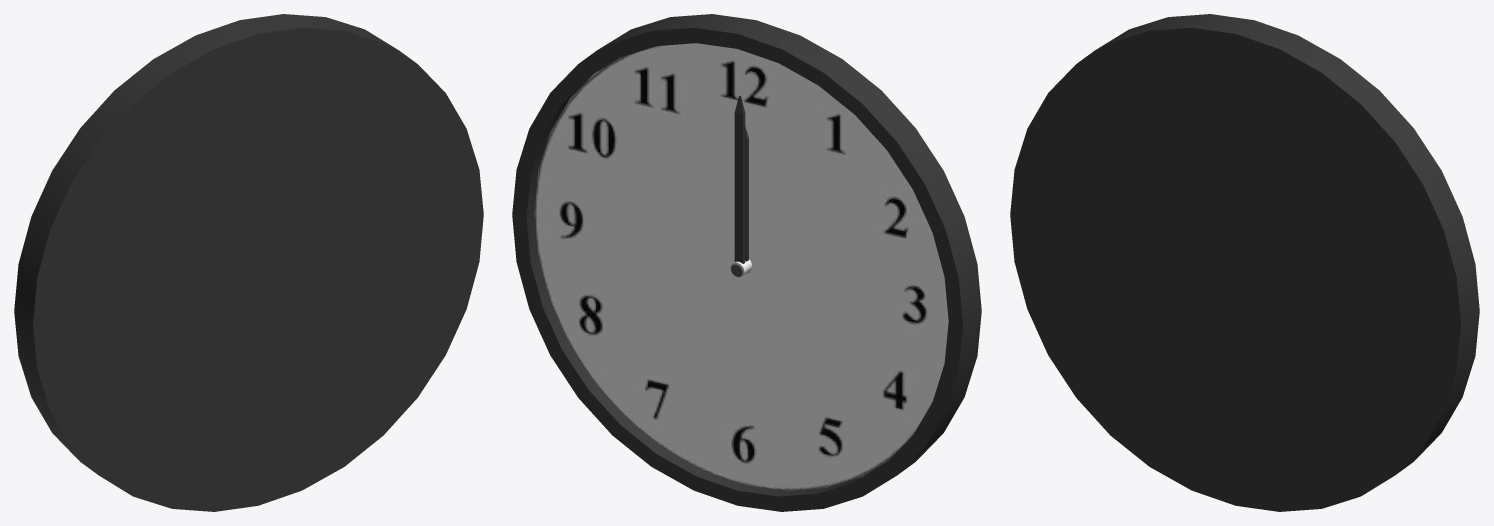
File: JamPutar.fbx
3 views of the same model, side by side, from view 1: azimuth 30°, elevation 25°; view 2: azimuth 150°, elevation 25°; view 3: azimuth 330°, elevation 25° (orthographic).
Visible parts, largest first — view 1: Jam; view 2: Jam, jarumBesar; view 3: Jam.
Boxes of the visible parts, x1=… form: Jam: x1=14, y1=14, x2=483, y2=511; Jam: x1=512, y1=14, x2=981, y2=511; jarumBesar: x1=734, y1=95, x2=745, y2=263; Jam: x1=1010, y1=14, x2=1479, y2=511.
Bounding box in the file's own units: 53.76 × 53.76 × 3.89.
2 materials, 1 textured.
